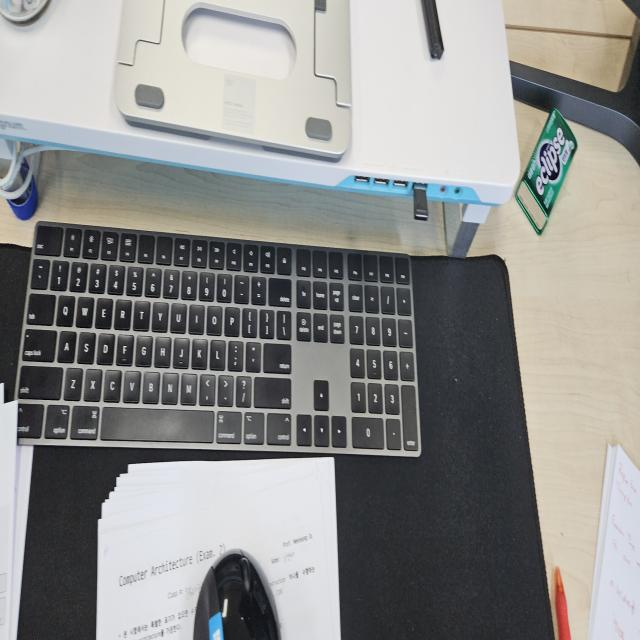Keyboard: (13, 218, 422, 457)
Mouse: (191, 546, 282, 638)
